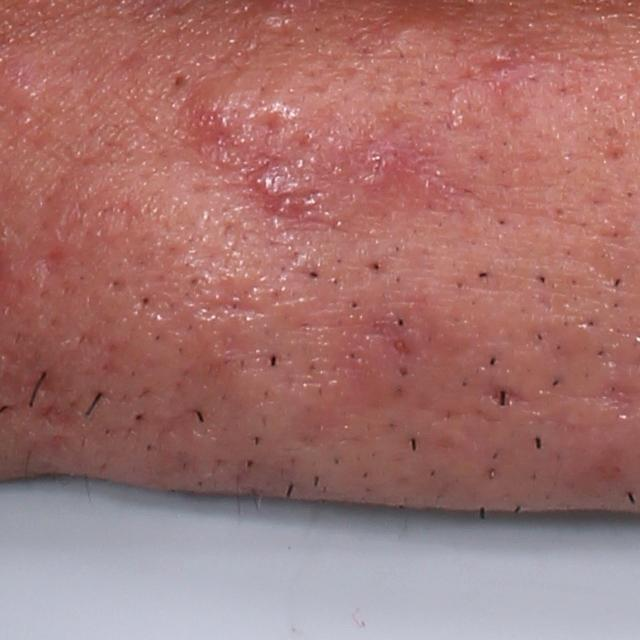atrophic_scar: (186, 276, 255, 315), (32, 241, 69, 283), (252, 109, 289, 150)
papule: (163, 73, 253, 142), (347, 140, 402, 189), (248, 156, 307, 200)
